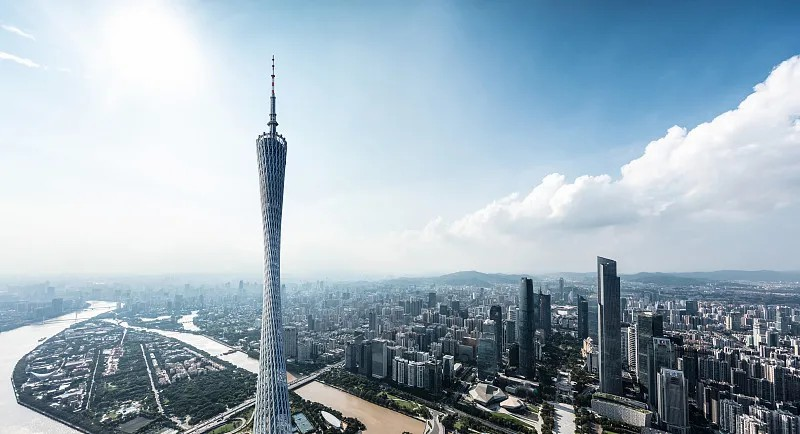Canton: (254, 54, 293, 434)
